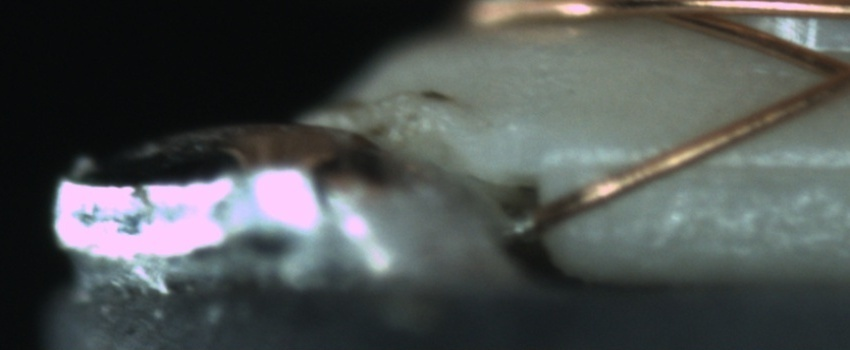CL: (801, 45, 850, 103)
DL: (566, 133, 850, 199)
